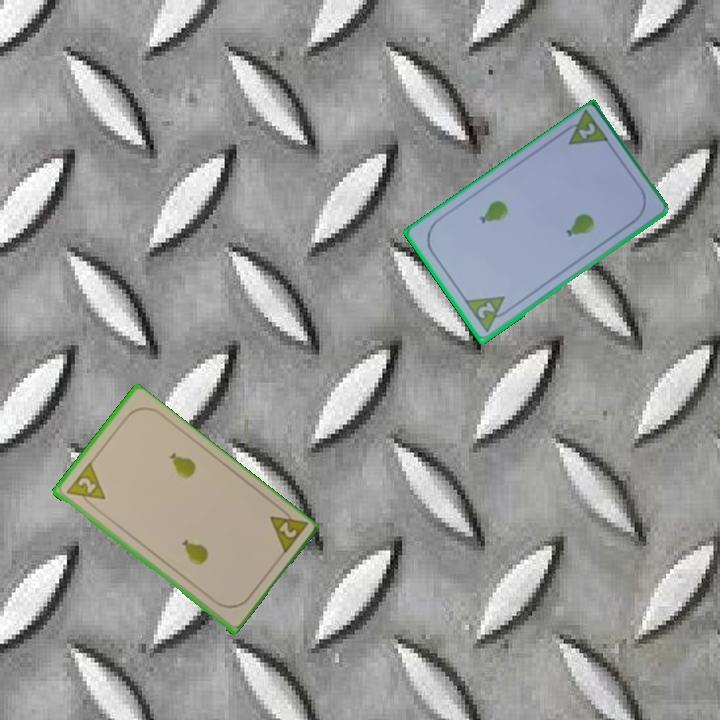2p: (265, 502, 310, 558), (62, 460, 108, 511), (461, 293, 515, 336), (574, 119, 598, 143)
